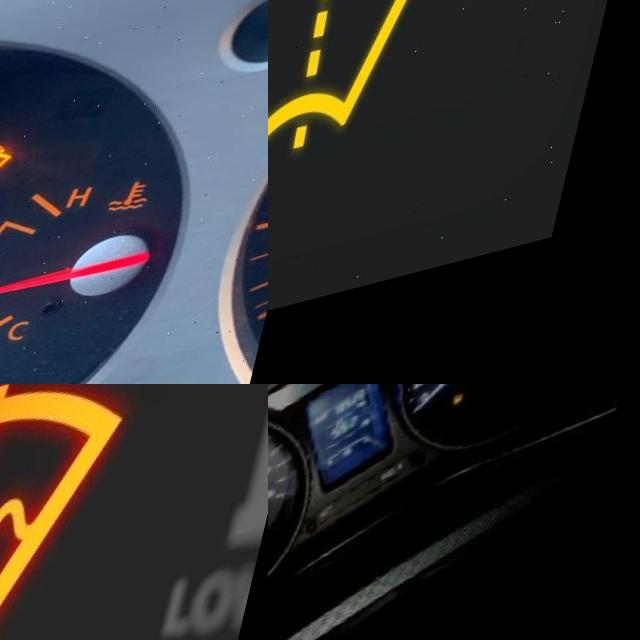Low fuel level: (457, 421, 472, 439)
Washer Fluid: (0, 384, 160, 640), (268, 0, 467, 188), (0, 149, 28, 206)
